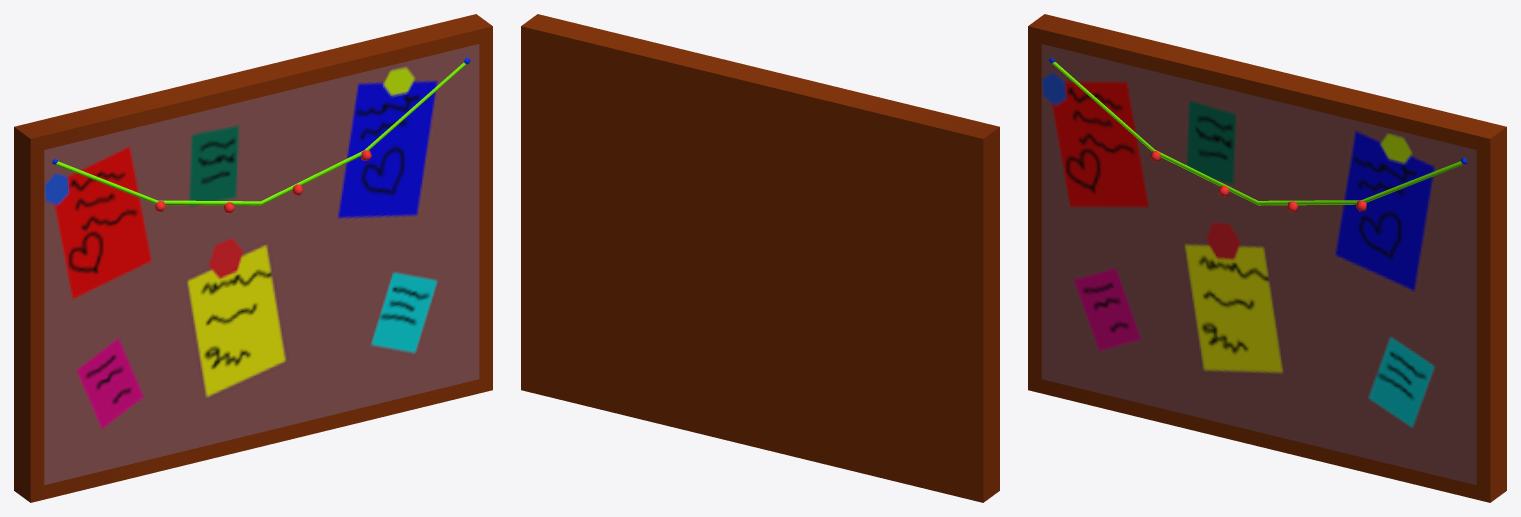
The model's file is Bulletin.fbx.
3 renders of one model, left to right at view 1: azimuth 30°, elevation 25°; view 2: azimuth 150°, elevation 25°; view 3: azimuth 330°, elevation 25°, orthographic.
Visible parts, largest first — view 1: Bulletin; view 2: Bulletin; view 3: Bulletin.
Boxes of the visible parts, left/top/right/bottom form: Bulletin: left=14, top=14, right=492, bottom=502; Bulletin: left=521, top=14, right=999, bottom=502; Bulletin: left=1028, top=14, right=1506, bottom=502.
Bounding box in the file's own units: 75.05 × 56.46 × 5.84.
